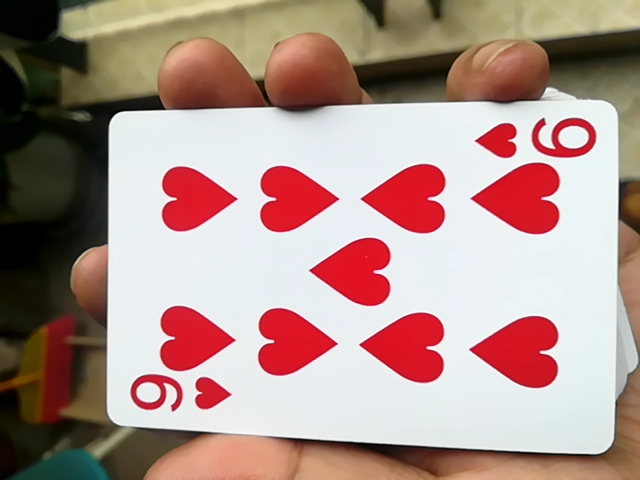hx 9: (94, 110, 619, 461)
